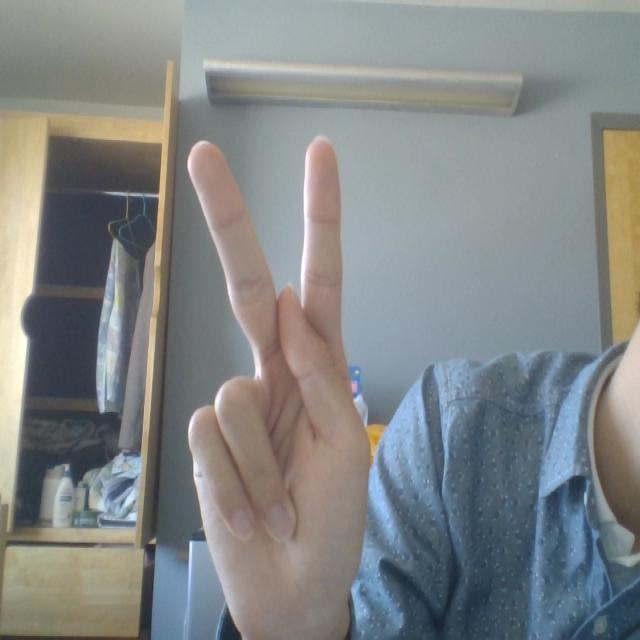K: (140, 73, 443, 640)
